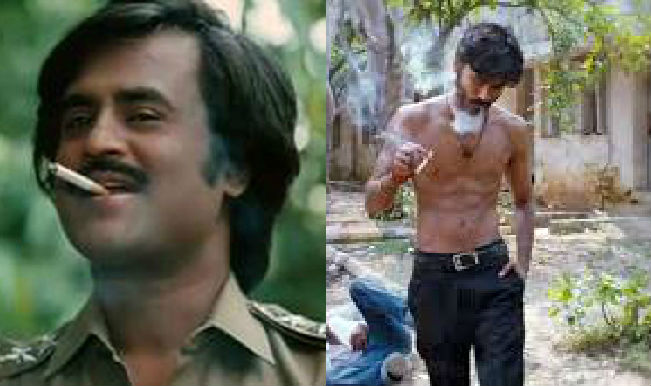cigarette: (43, 156, 105, 194)
